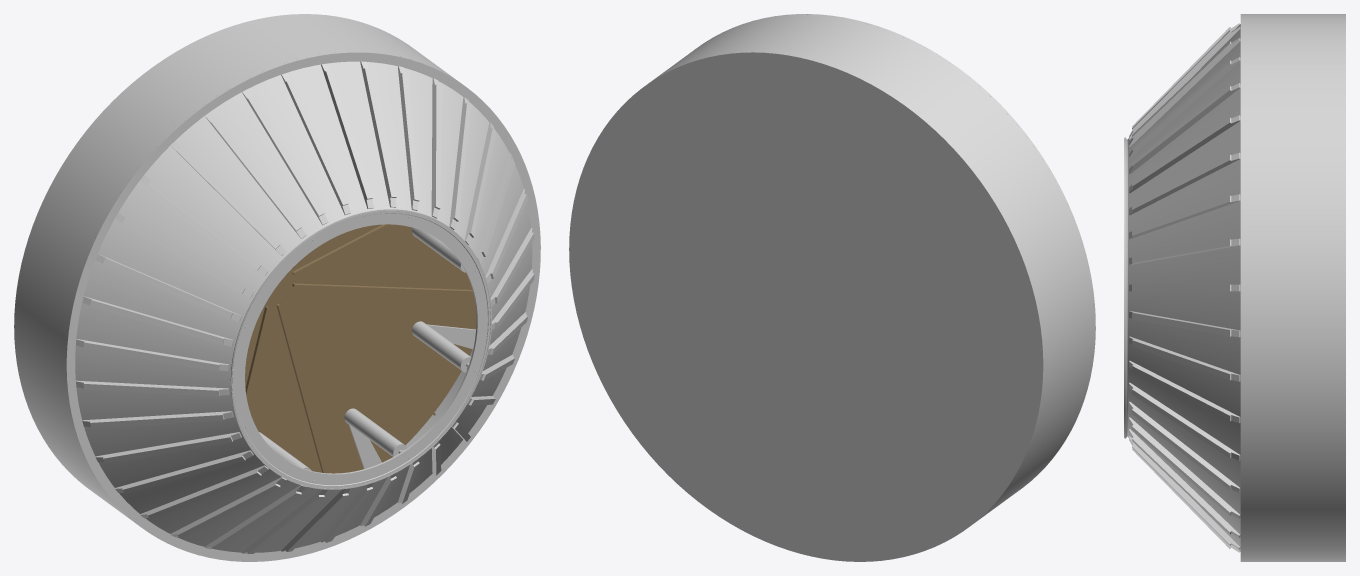
The picture shows the model from 3 angles, left to right: view 1: azimuth 30°, elevation 25°; view 2: azimuth 150°, elevation 25°; view 3: azimuth 270°, elevation 25°; orthographic projection.
Parts seen in each view (by area): view 1: アダプタ, ボディ1, スプリング3, スプリング4, スプリング2; view 2: ボディ1, アダプタ; view 3: ボディ1, アダプタ.
Boxes of the visible parts, <box> form: アダプタ: <box>65,51,540,561</box>; ボディ1: <box>14,14,476,523</box>; スプリング3: <box>411,321,477,372</box>; スプリング4: <box>344,408,410,468</box>; スプリング2: <box>412,227,477,272</box>; ボディ1: <box>569,14,1094,561</box>; アダプタ: <box>703,14,1095,482</box>; ボディ1: <box>1243,14,1345,561</box>; アダプタ: <box>1124,14,1242,561</box>.
Bounding box in the file's own units: 22.08 × 22.08 × 8.93.
